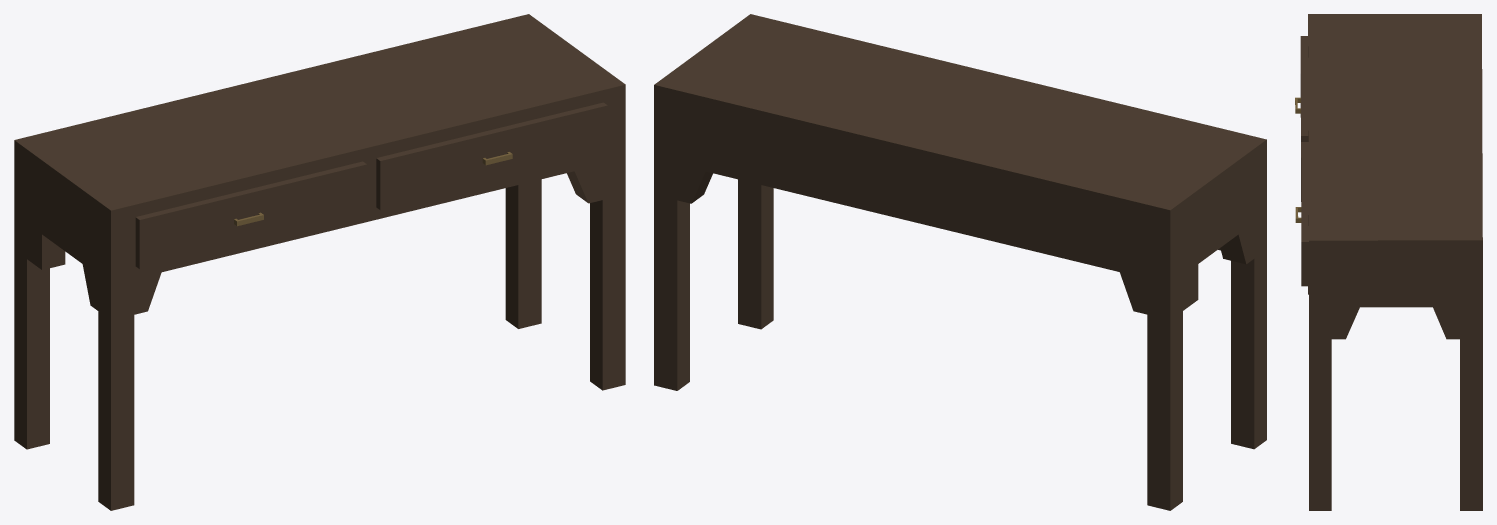
File: meja panjang.fbx
The picture shows the model from 3 angles, left to right: view 1: azimuth 30°, elevation 25°; view 2: azimuth 150°, elevation 25°; view 3: azimuth 270°, elevation 25°; orthographic projection. The views are drawn at different scales.
Visible parts, largest first — view 1: Cube, Cube.002, Cube.001; view 2: Cube; view 3: Cube, Cube.002, Cube.001.
Part boxes in pixels (x1,y1,x2,y2): Cube: (14,14,625,510); Cube.002: (376,102,607,210); Cube.001: (135,161,366,269); Cube: (654,14,1266,510); Cube: (1308,14,1482,510); Cube.002: (1301,142,1308,286); Cube.001: (1300,36,1308,141).
Bounding box in the file's own units: 759 × 423 × 266.
Materials: 5 (5 with a texture image).
